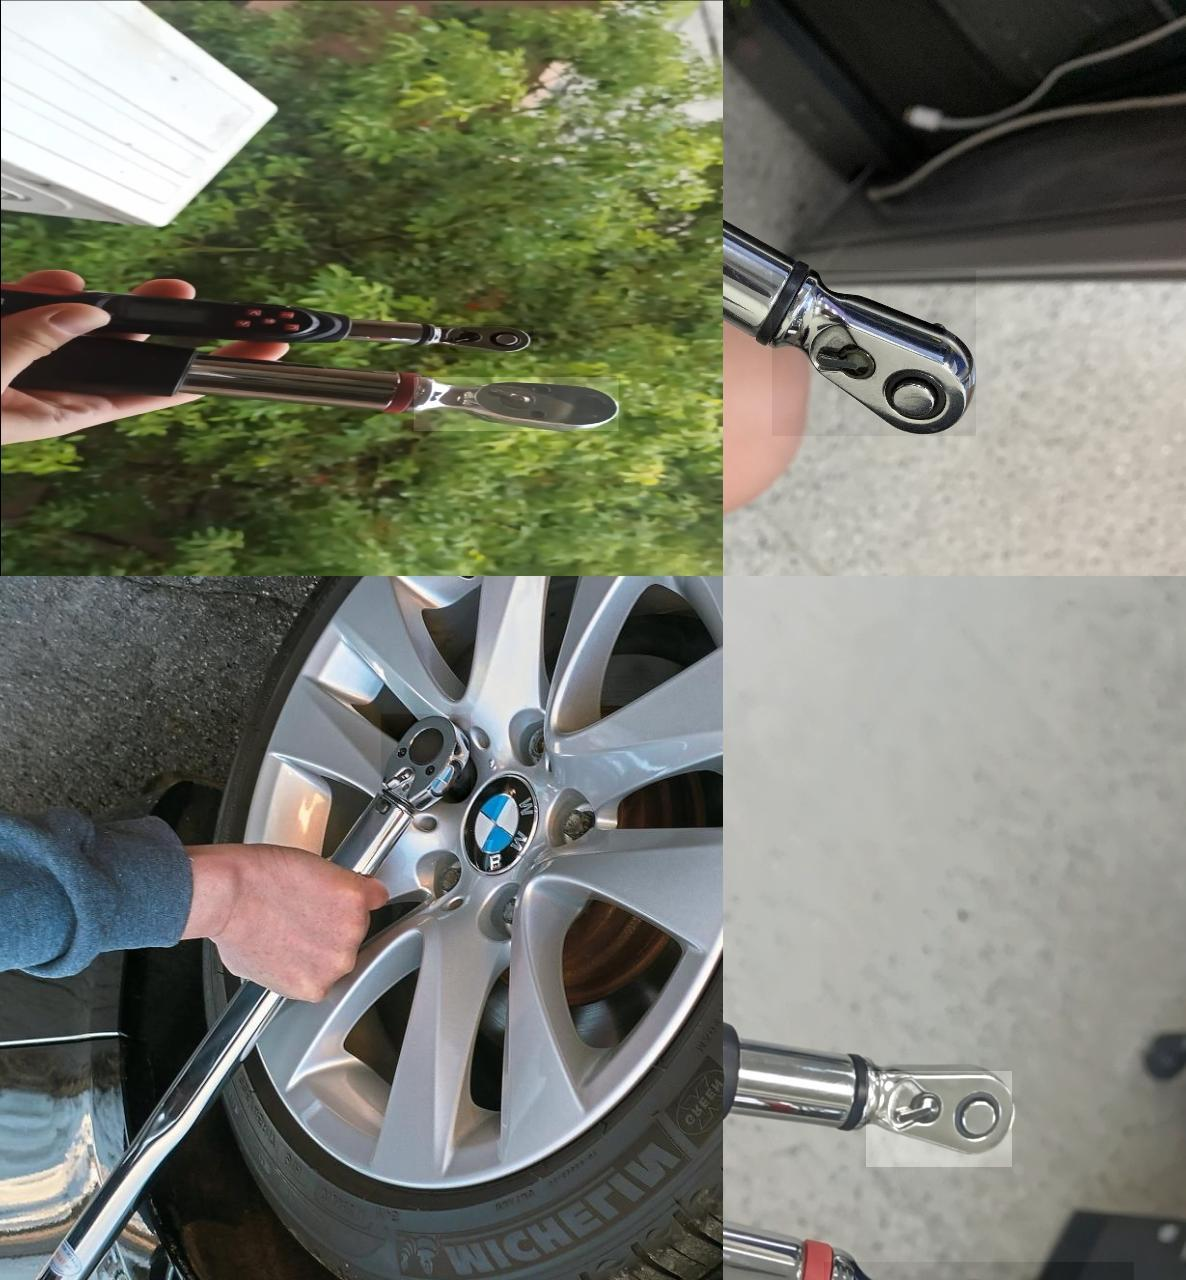Tool: (771, 269, 975, 435), (865, 1070, 1011, 1166), (412, 376, 618, 430), (380, 712, 470, 803), (428, 324, 532, 352)
